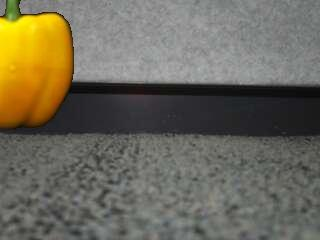Capsicum: (0, 0, 74, 131)
